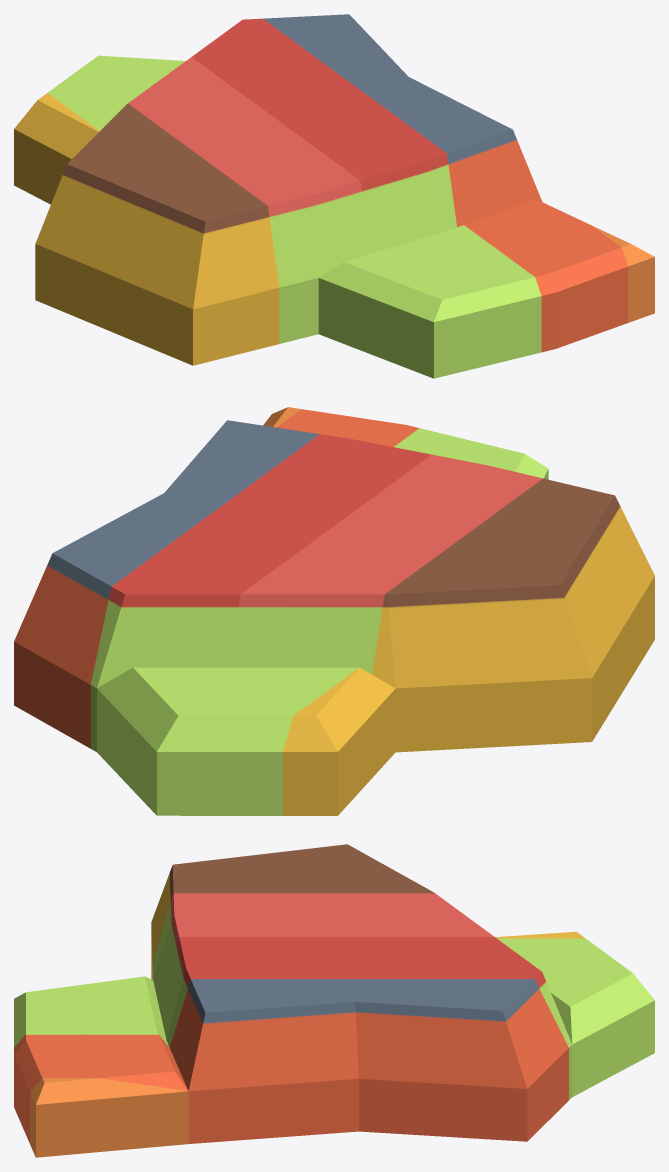
The model's file is rock_14.fbx.
The picture shows the model from 3 angles, top to bottom: view 1: azimuth 30°, elevation 25°; view 2: azimuth 150°, elevation 25°; view 3: azimuth 270°, elevation 25°; orthographic projection. The views are drawn at different scales.
Visible parts, largest first — view 1: rock_14; view 2: rock_14; view 3: rock_14.
Boxes of the visible parts, x1,y1,x2,y2 form: rock_14: (14,14,654,378); rock_14: (14,407,654,815); rock_14: (14,844,654,1157).
Bounding box in the file's own units: 152 × 41.76 × 200.
